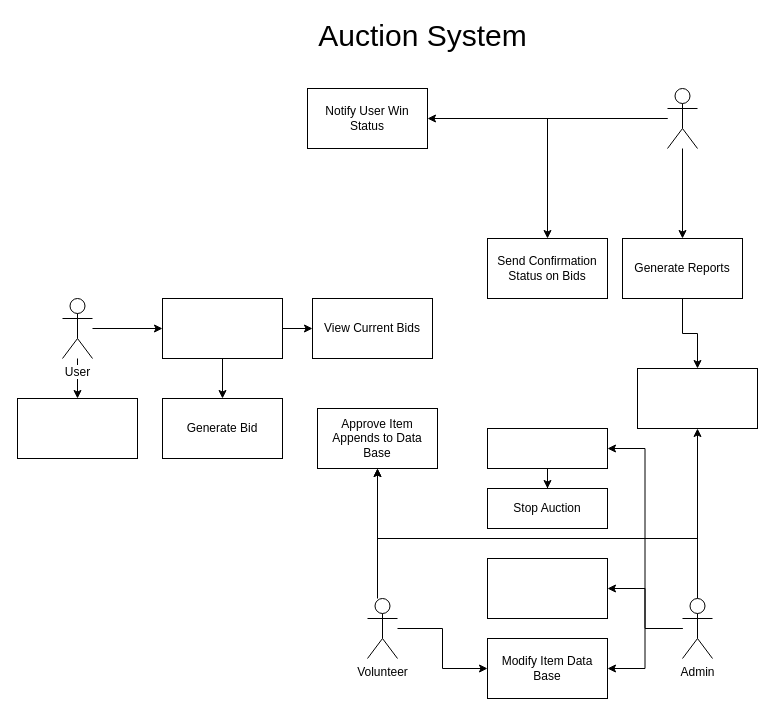
This 775x716 diagram has some shape labels left out. Here are the shapes that lost their labels. From the top down, the box of each, then its label:
(666, 88, 698, 148): System
(162, 298, 282, 358): Create Account
(636, 368, 758, 428): View Auction Reports
(16, 398, 138, 458): View Current Items
(486, 428, 608, 468): Start Auction
(486, 558, 608, 618): Revert Item Bid Queue
